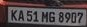character: (9, 8, 18, 21), (47, 10, 56, 23), (40, 9, 48, 23), (17, 8, 24, 22), (25, 9, 32, 22), (63, 10, 70, 23), (70, 11, 77, 24), (76, 10, 83, 23), (32, 10, 39, 22), (57, 10, 64, 22)
